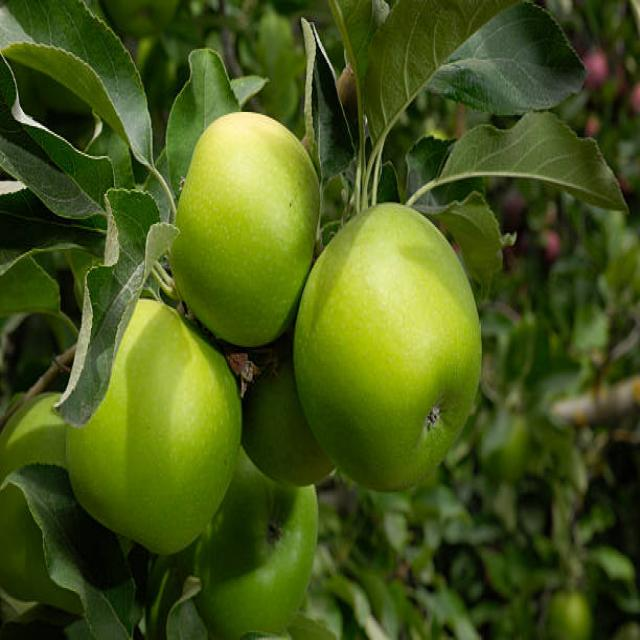Unripe: (296, 203, 483, 496), (67, 296, 242, 559), (170, 109, 320, 350)
